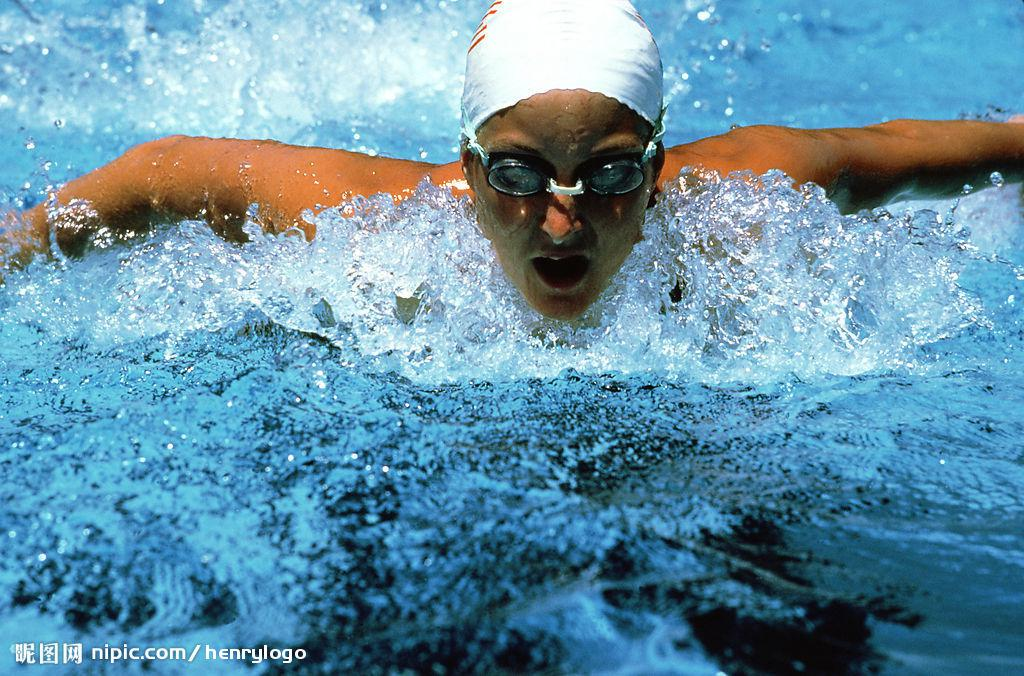human: (2, 4, 1024, 324)
